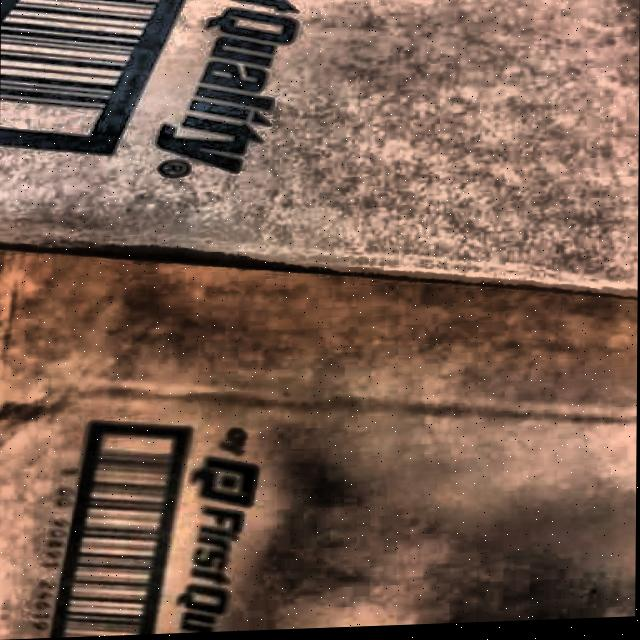cardboard: (0, 0, 640, 327)
